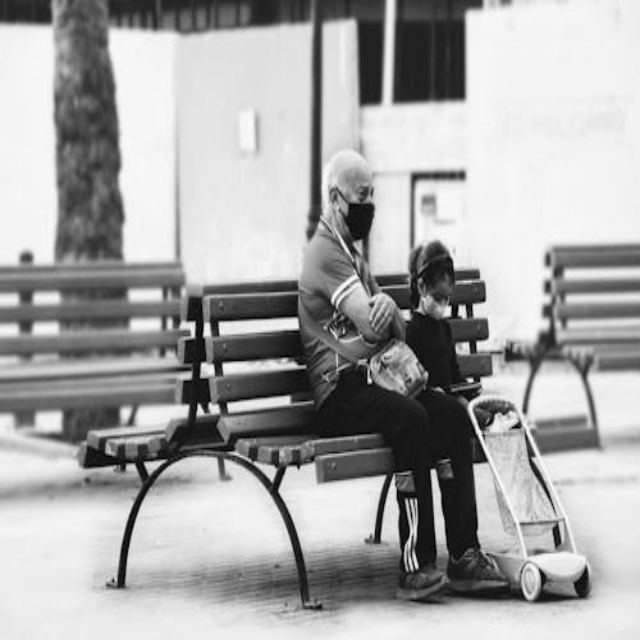Mascara: (340, 196, 375, 240), (422, 292, 452, 320)
Sin_gafas: (346, 179, 376, 206), (426, 284, 453, 306)
